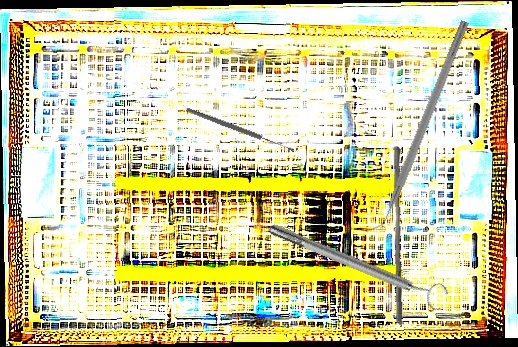Chopper: (362, 15, 470, 239)
Fixation Ring: (264, 213, 452, 315)
Pusher: (387, 145, 410, 326)
Surgical Spoon: (184, 106, 296, 154)
